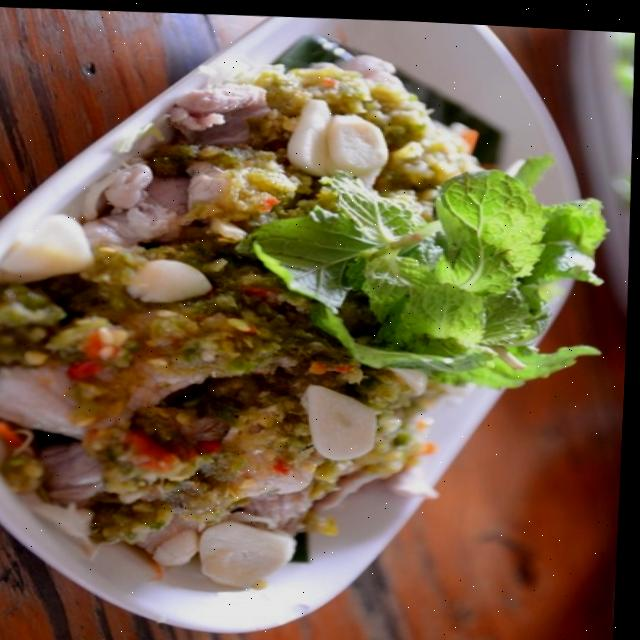猪肉菜式: (0, 8, 614, 640)
